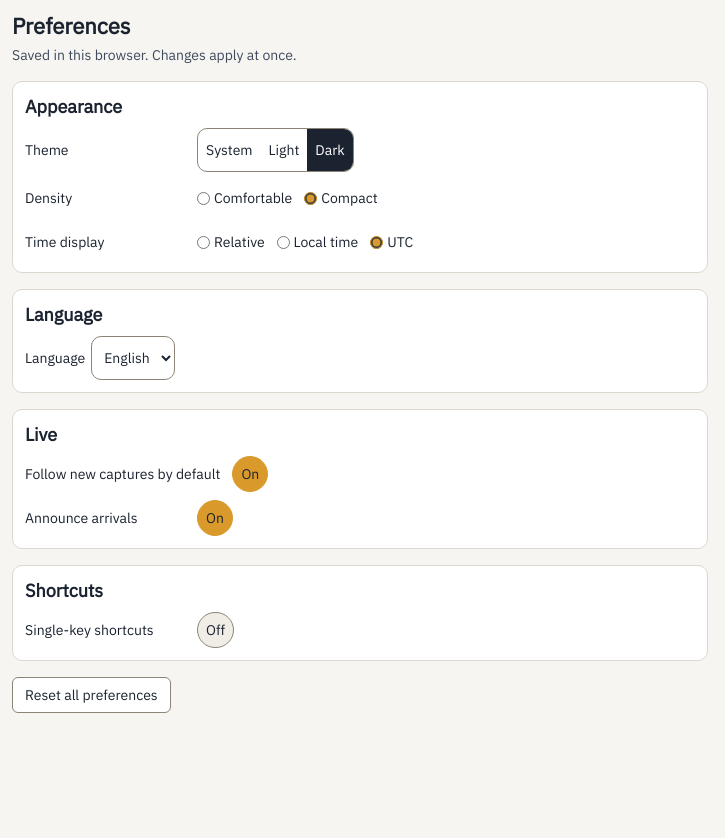
PreferencesPage › reset all returns every preference to its default and reports it
Click the button "Reset all preferences": (91, 695) x1=12 y1=677 x2=171 y2=713
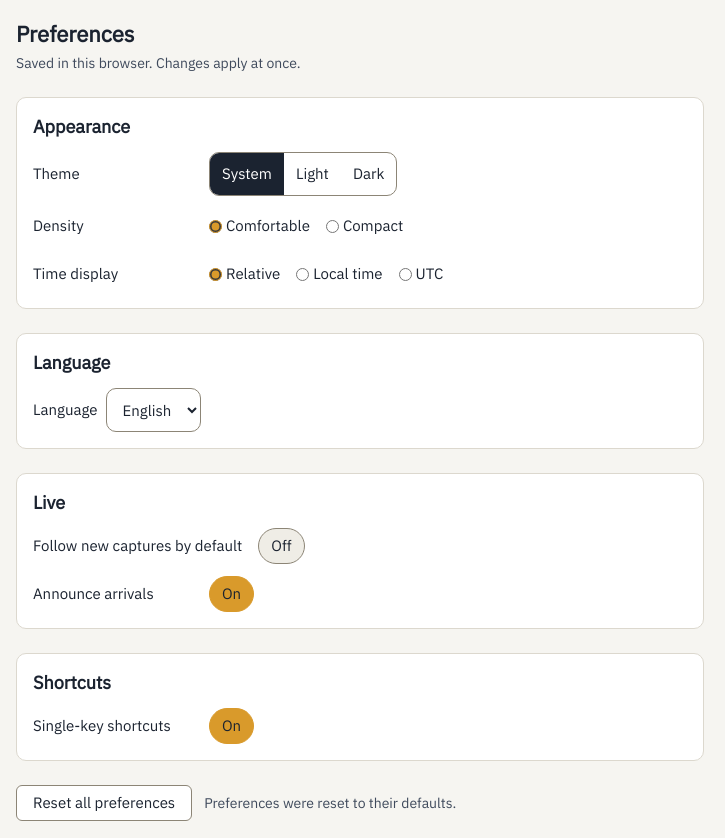
Expected: the text "Preferences were reset to their defaults." is shown, x1=204 y1=793 x2=456 y2=813
